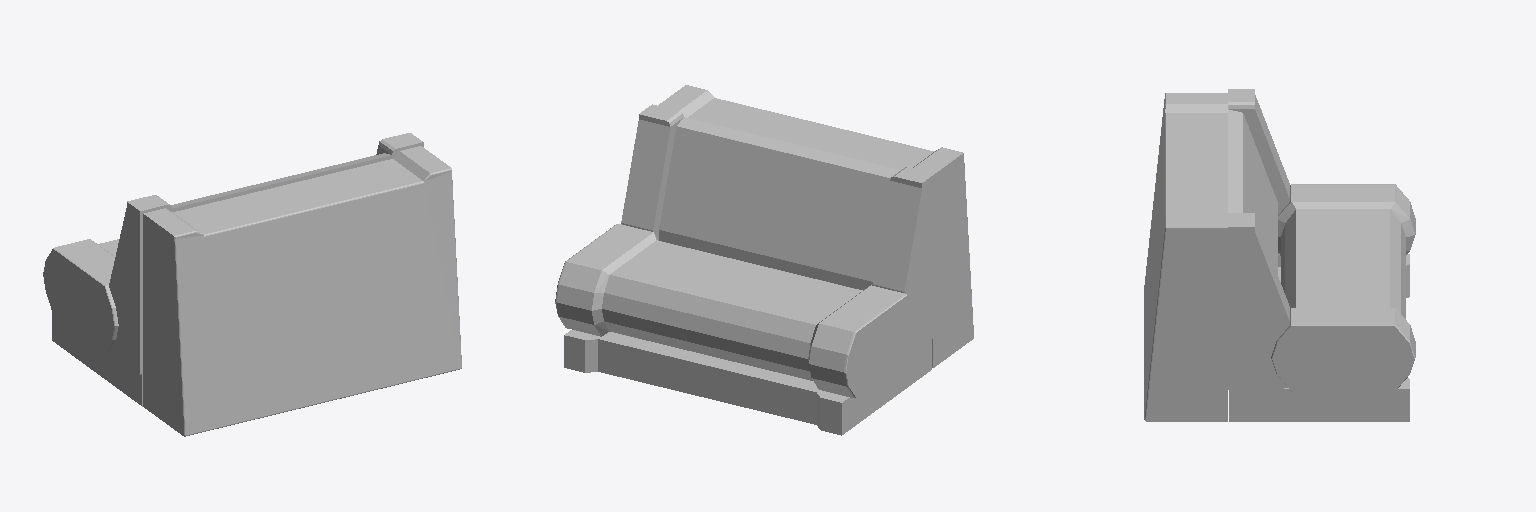
Rendered from couch.obj.
The picture shows the model from 3 angles: view 1: azimuth 30°, elevation 25°; view 2: azimuth 150°, elevation 25°; view 3: azimuth 270°, elevation 25°; orthographic projection.
Visible parts, largest first — view 1: Cube.001_Cube.008, Cube.005_Cube.007, Cube_Cube.006, Cube.002_Cube.009; view 2: Cube.005_Cube.007, Cube_Cube.006, Cube.002_Cube.009, Cube.001_Cube.008; view 3: Cube_Cube.006, Cube.001_Cube.008, Cube.005_Cube.007, Cube.002_Cube.009.
Part boxes in pixels (x1,y1,x2,y2): Cube.001_Cube.008: (143, 146, 461, 436); Cube.005_Cube.007: (109, 133, 423, 374); Cube_Cube.006: (43, 239, 118, 351); Cube.002_Cube.009: (52, 313, 142, 406); Cube.005_Cube.007: (621, 104, 935, 354); Cube_Cube.006: (555, 224, 916, 397); Cube.002_Cube.009: (564, 330, 931, 435); Cube.001_Cube.008: (658, 85, 973, 367); Cube_Cube.006: (1271, 184, 1415, 391); Cube.001_Cube.008: (1144, 93, 1227, 421); Cube.005_Cube.007: (1228, 89, 1289, 389); Cube.002_Cube.009: (1229, 254, 1409, 421).
Bounding box in the file's own units: 5.36 × 3.46 × 4.32.